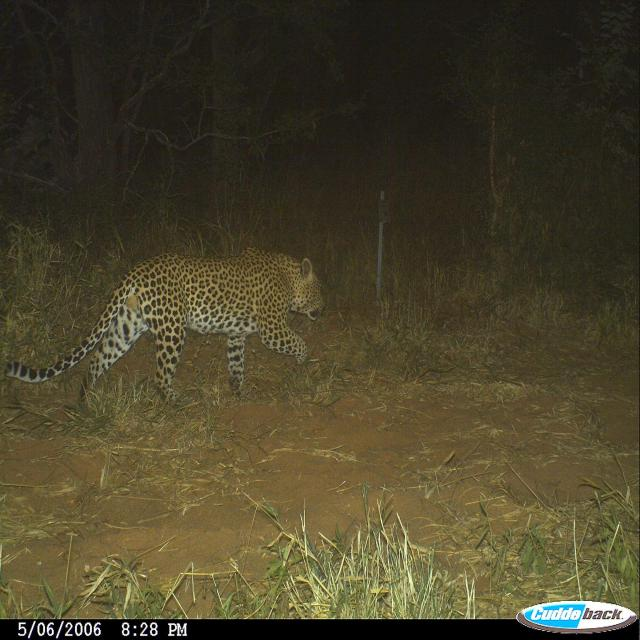Leopard: (4, 240, 342, 430)
